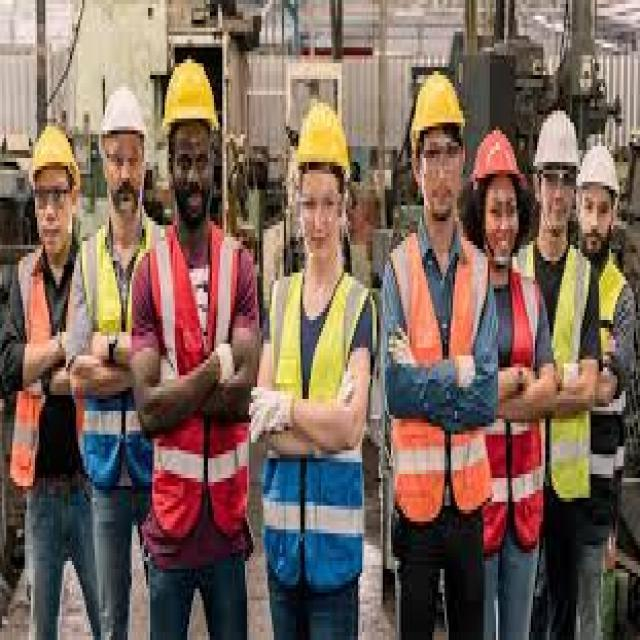white helmet: (526, 109, 583, 174), (98, 81, 157, 140), (578, 146, 624, 193)
yellow helmet: (287, 97, 360, 174), (160, 64, 231, 128), (407, 74, 471, 139), (30, 127, 80, 184)
